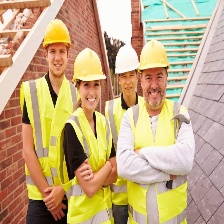helmet: (71, 47, 107, 87), (138, 38, 170, 76), (42, 17, 74, 52), (114, 42, 138, 77)
person: (126, 38, 191, 224), (16, 17, 73, 224), (62, 49, 114, 224)
vest: (129, 106, 188, 224), (20, 79, 73, 193), (66, 112, 114, 224)
